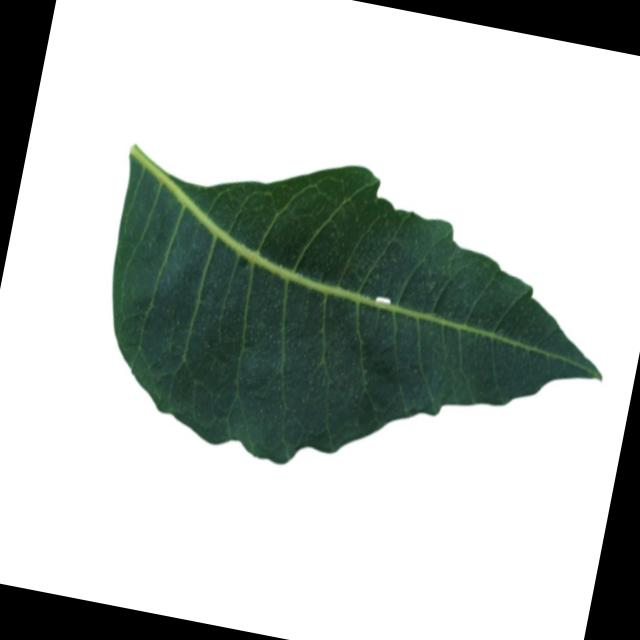Medicinal-Neem: (77, 120, 636, 522)
